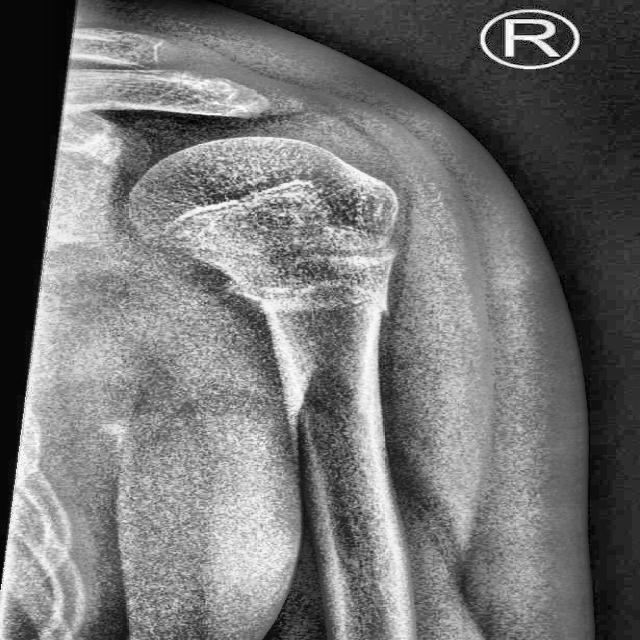line: (242, 277, 400, 322), (292, 363, 318, 463)
